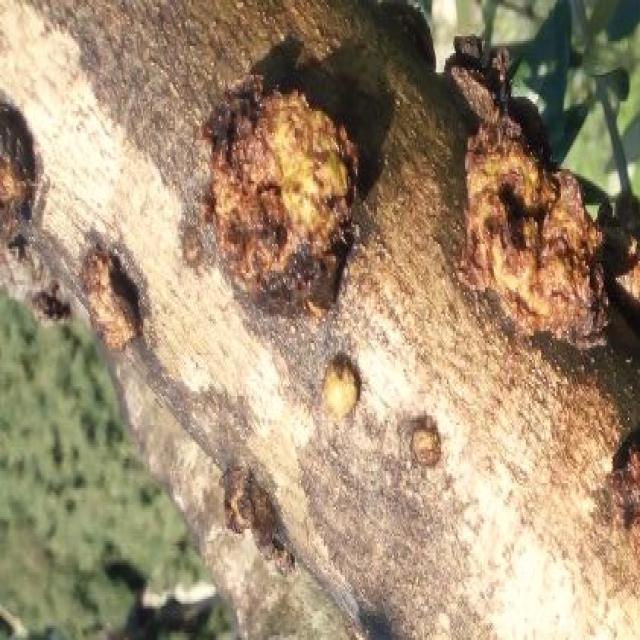Tuberculosis: (445, 36, 608, 350), (200, 72, 358, 316), (224, 466, 294, 565), (0, 99, 35, 287), (79, 242, 137, 351), (324, 352, 359, 420), (415, 420, 439, 466)
